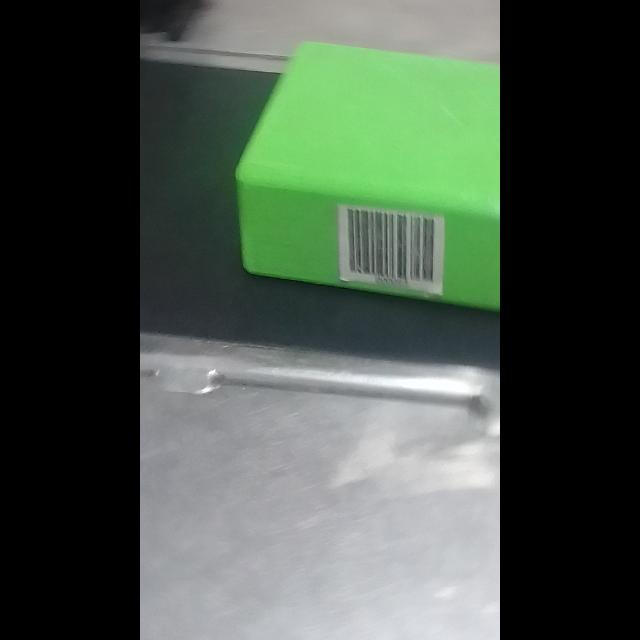greenBox: (225, 22, 500, 324)
